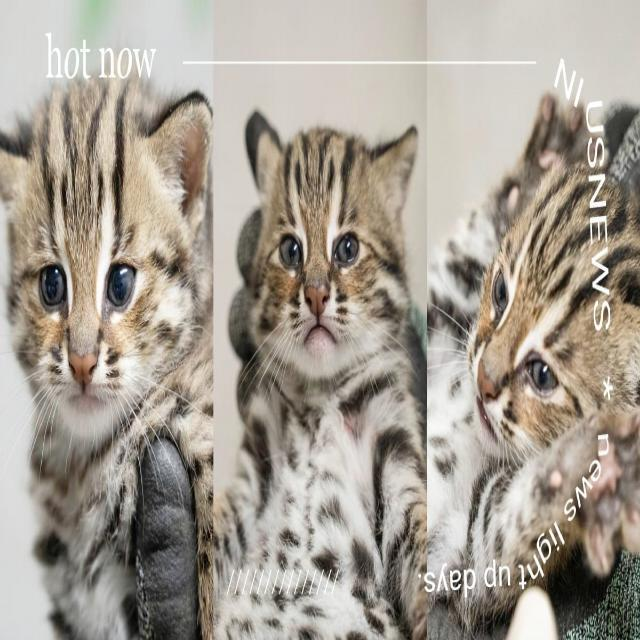leopard: (459, 97, 640, 525), (19, 92, 238, 370), (254, 98, 430, 400)
